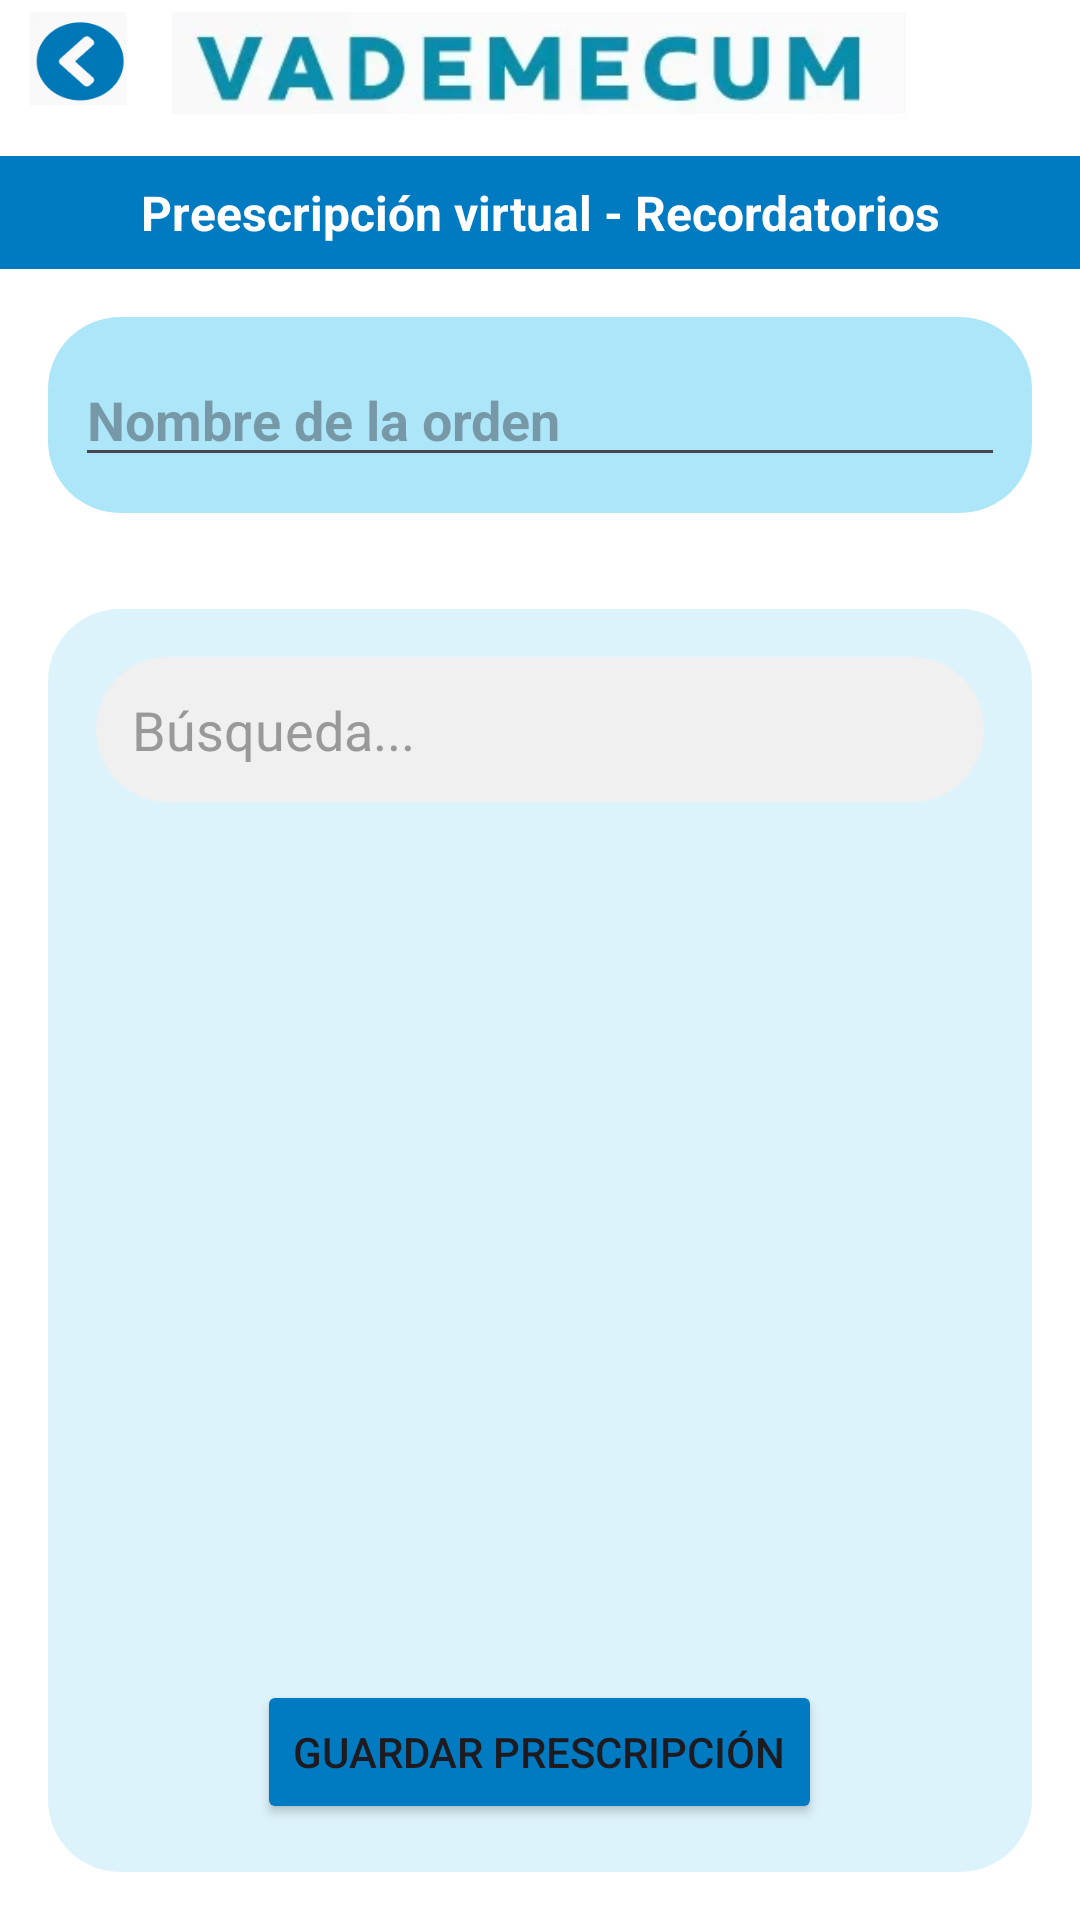

Where to tap for icons on this 1080w x 1920h app screen, as point (x, y):
imgatras: point (80, 61)
